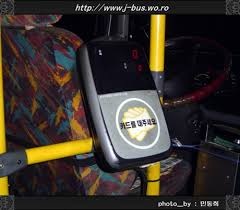terminal: (74, 31, 177, 175)
